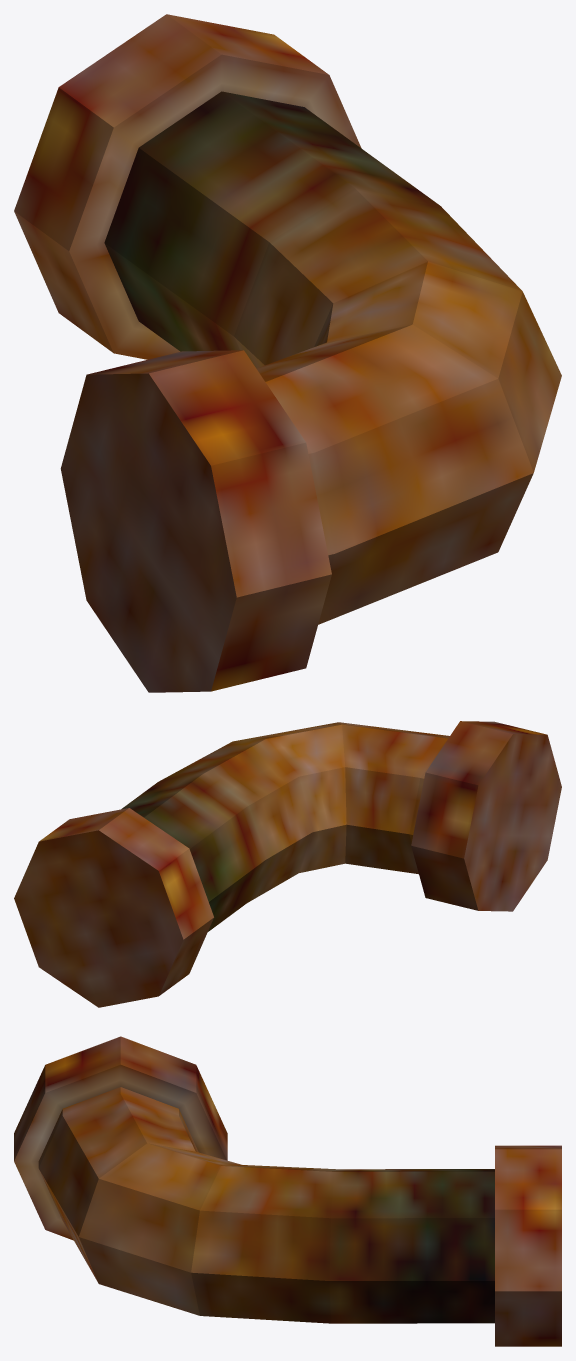
File: MO_PIPE_MEDIUM_06.fbx
The picture shows the model from 3 angles, top to bottom: view 1: azimuth 30°, elevation 25°; view 2: azimuth 150°, elevation 25°; view 3: azimuth 270°, elevation 25°; orthographic projection. The views are drawn at different scales.
Parts seen in each view (by area): view 1: MO_PIPE_MEDIUM_06; view 2: MO_PIPE_MEDIUM_06; view 3: MO_PIPE_MEDIUM_06.
Boxes of the visible parts, bbox=[...] form: MO_PIPE_MEDIUM_06: bbox=[14, 14, 561, 692]; MO_PIPE_MEDIUM_06: bbox=[14, 721, 561, 1007]; MO_PIPE_MEDIUM_06: bbox=[14, 1036, 561, 1346].
Bounding box in the file's own units: 0.6999 × 0.4 × 1.03.
